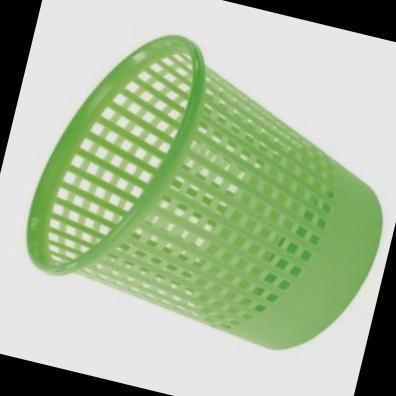Bote de Basura: (20, 18, 396, 368)
